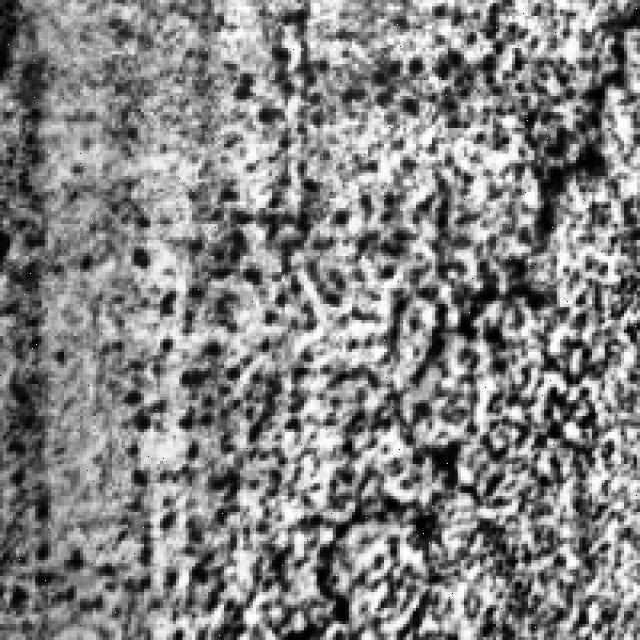Rolled_in_Scale: (147, 16, 634, 621)
